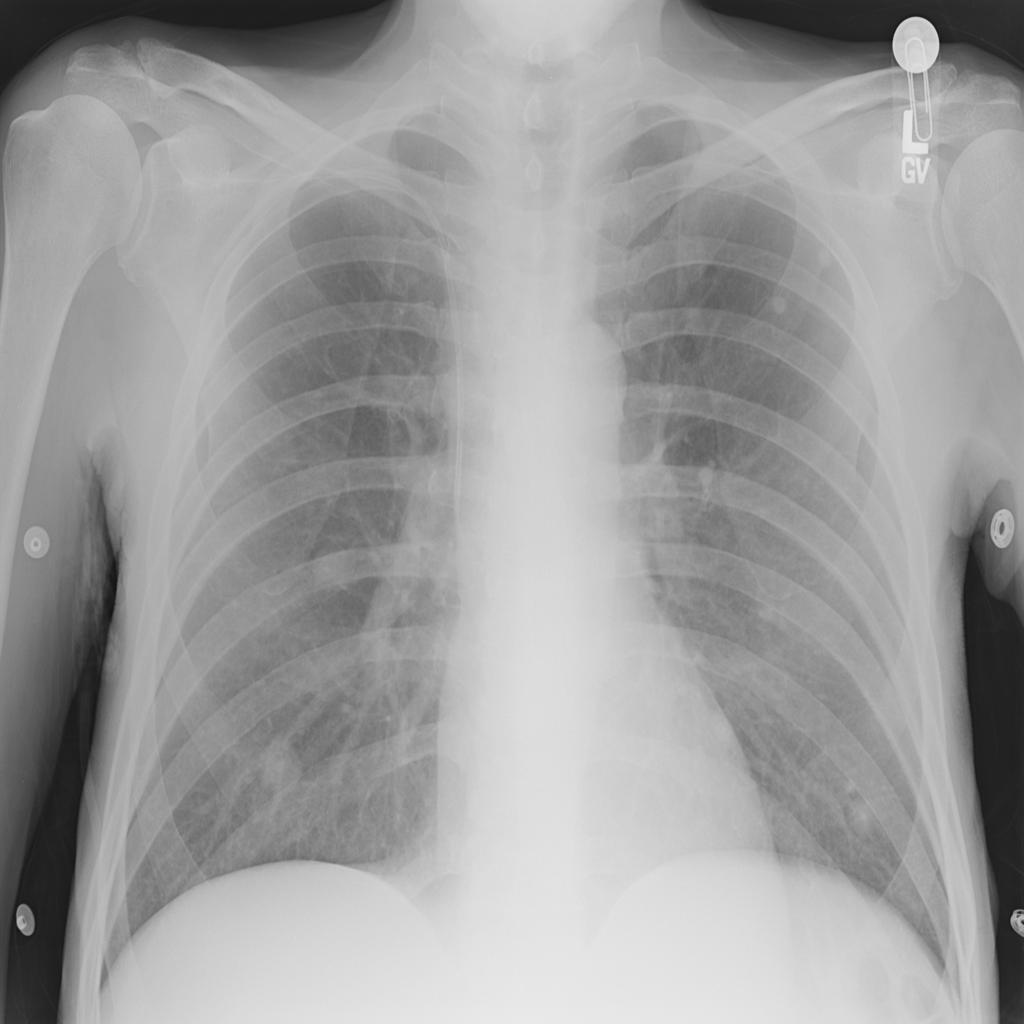nodule: (245, 725, 312, 805), (301, 530, 370, 605), (834, 776, 895, 853), (696, 703, 746, 756), (757, 278, 804, 331), (809, 236, 843, 276)
